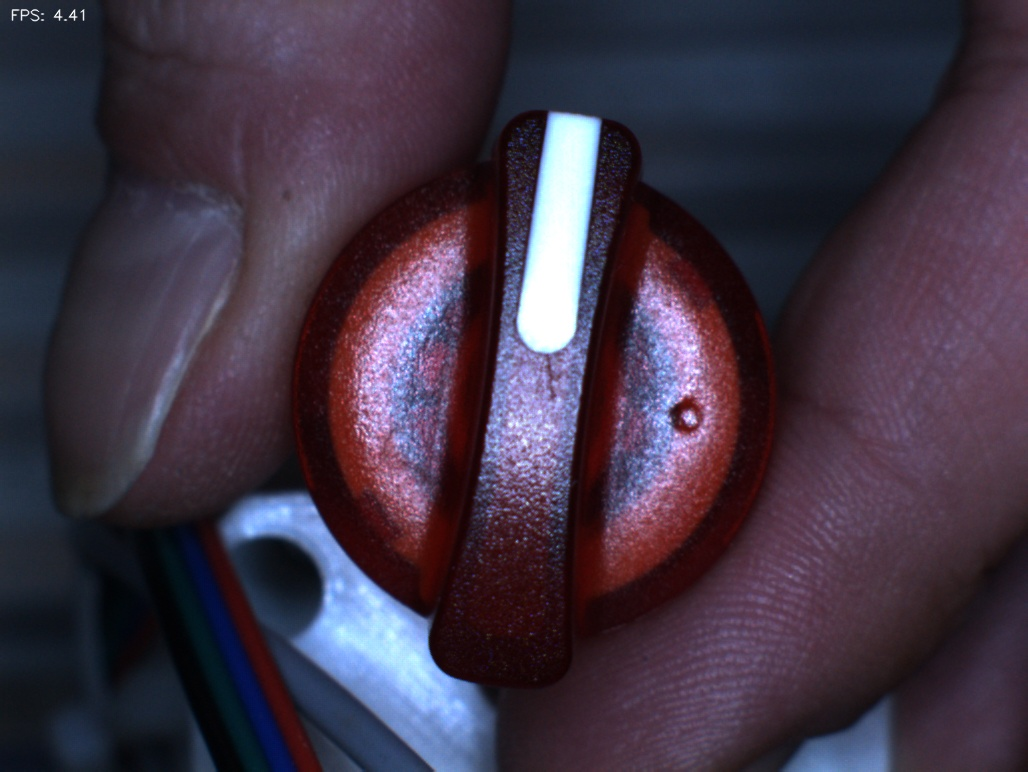Choc: (645, 373, 722, 450)
